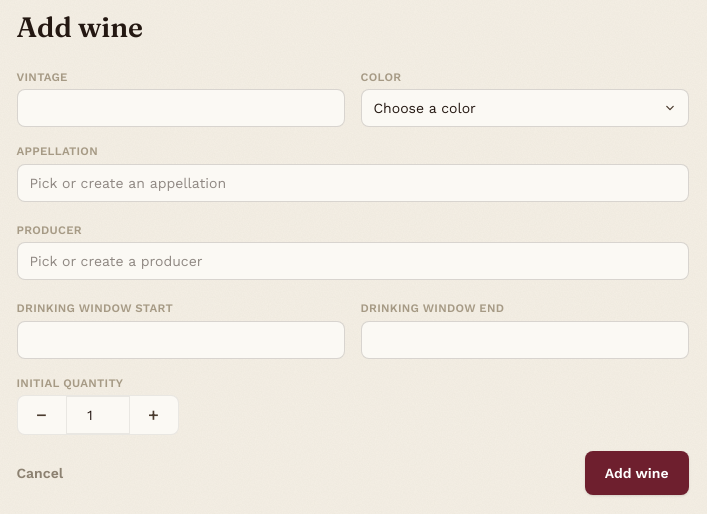
Test: WineFormView — add › re-fills garde end after it is cleared and garde start is blurred again
In the number field with test id "wine-garde-debut-input": (180, 340) [16,321,344,359], type "2020"
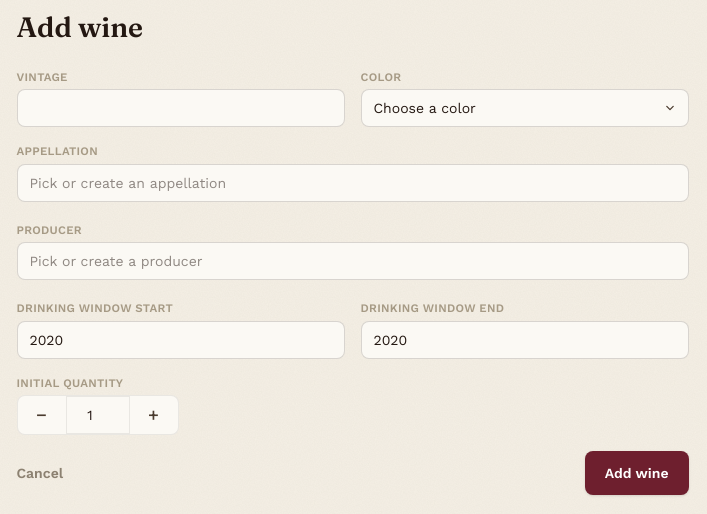
Clear the number field with test id "wine-garde-fin-input": (524, 340) [360,321,688,359]
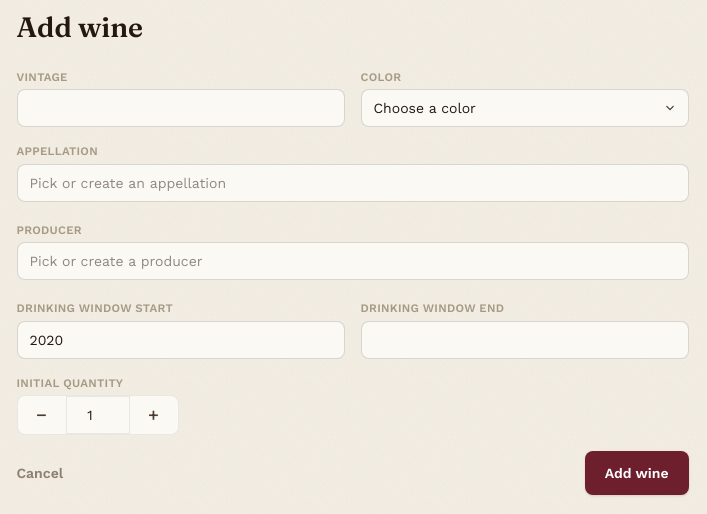
Replace the text in the number field with test id "wine-garde-debut-input" with "2021": (180, 340) [16,321,344,359]
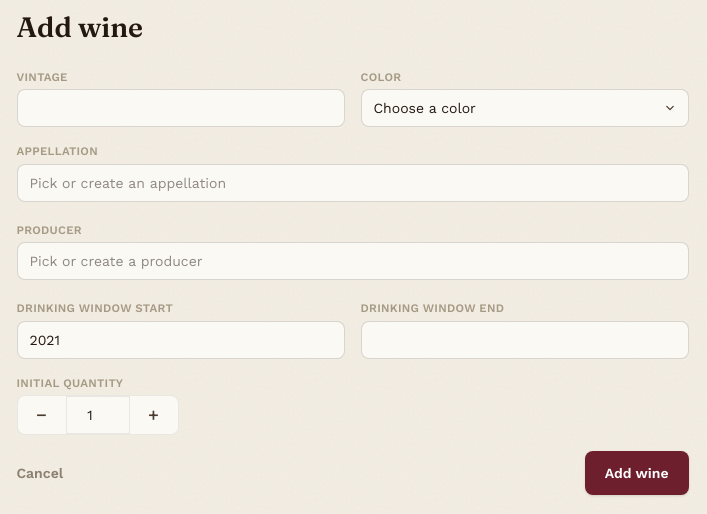
Leave the number field with test id "wine-garde-debut-input", box [16,321,344,359]
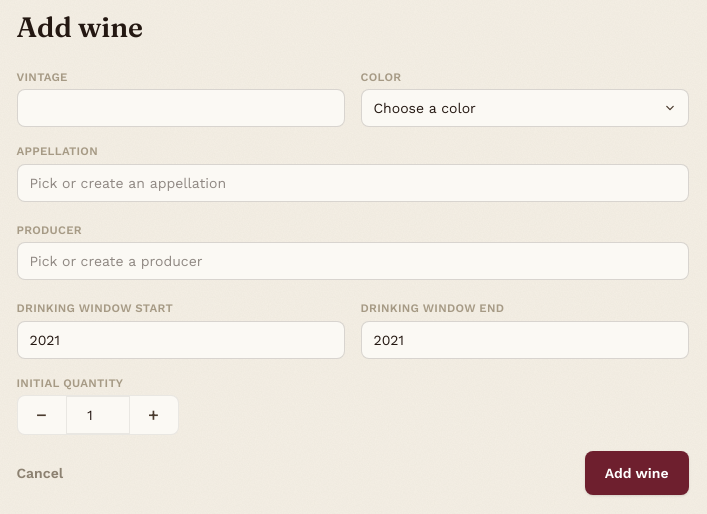
Expected: the number field with test id "wine-garde-fin-input" holds "2021", [360,321,688,359]
